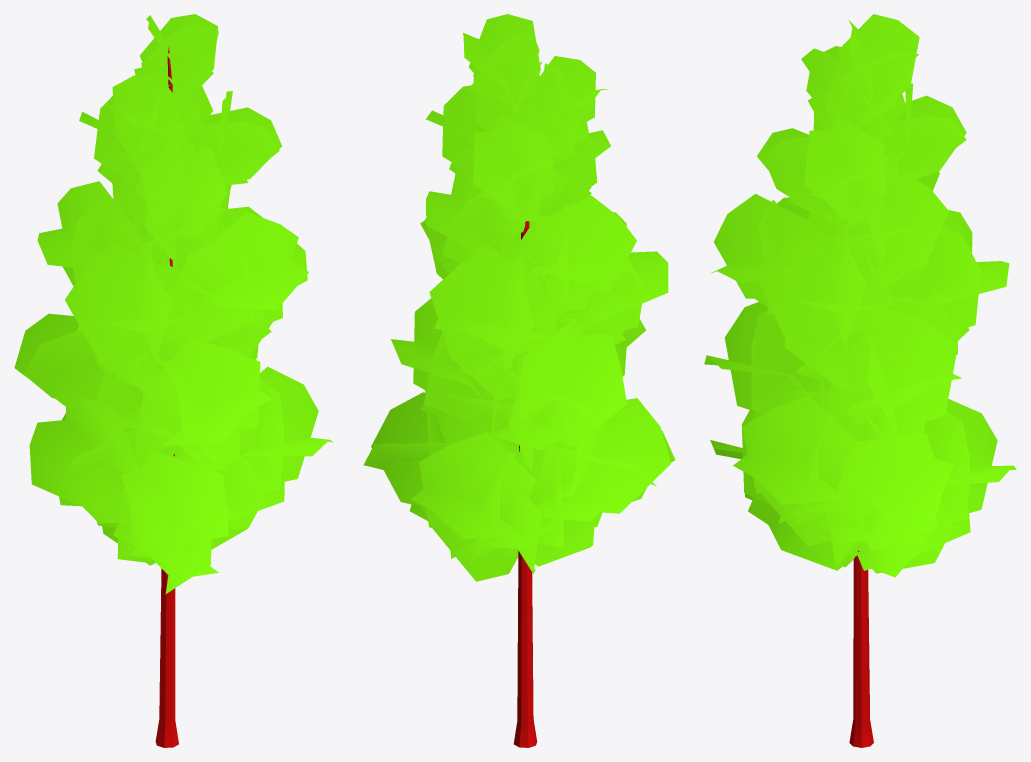
The model's file is SM_Tree_Birch_03.glb.
3 renders of one model, left to right at view 1: azimuth 30°, elevation 25°; view 2: azimuth 150°, elevation 25°; view 3: azimuth 270°, elevation 25°, orthographic.
Visible parts, largest first — view 1: SM_Tree_Birch_03; view 2: SM_Tree_Birch_03; view 3: SM_Tree_Birch_03.
Boxes of the visible parts, x1=… form: SM_Tree_Birch_03: x1=14, y1=14, x2=333, y2=747; SM_Tree_Birch_03: x1=363, y1=14, x2=675, y2=747; SM_Tree_Birch_03: x1=704, y1=14, x2=1016, y2=747.
Bounding box in the file's own units: 2.14 × 5.4 × 2.11.
